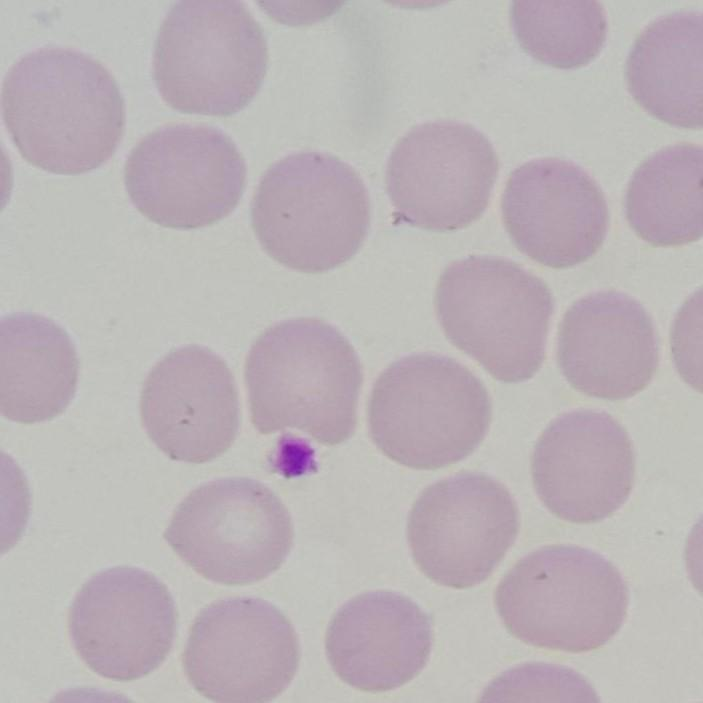Uninfected: (246, 316, 362, 446), (250, 150, 372, 273), (1, 49, 122, 173), (494, 542, 626, 652), (369, 352, 488, 472), (163, 473, 289, 586), (439, 258, 550, 383), (151, 0, 268, 118), (67, 563, 176, 681), (411, 469, 519, 586), (137, 340, 238, 464), (127, 125, 242, 231), (184, 592, 294, 702), (387, 119, 494, 230), (503, 159, 606, 271), (531, 409, 632, 523), (554, 292, 660, 397), (324, 586, 430, 691), (624, 6, 703, 128), (0, 310, 81, 426), (624, 139, 703, 247), (501, 0, 610, 71)
